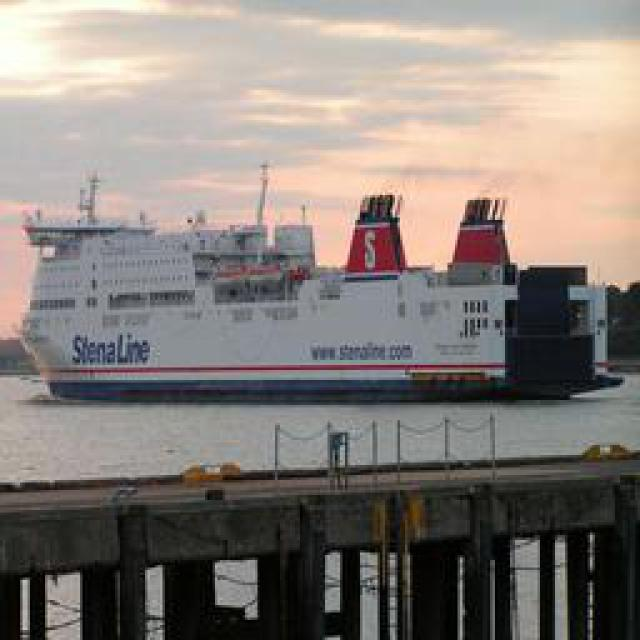Ship: (21, 177, 640, 398)
